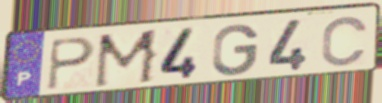4: (157, 25, 204, 83), (266, 17, 313, 73)
C: (319, 14, 371, 69)
G: (210, 23, 261, 78)
M: (91, 27, 162, 91)
P: (46, 36, 98, 93)
